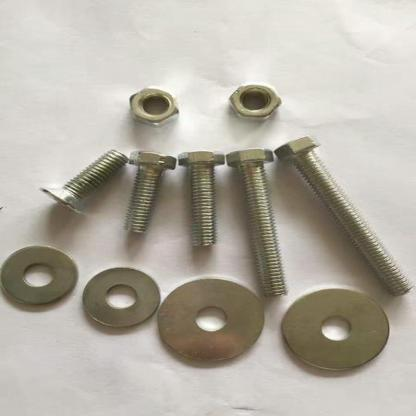FOD: (272, 133, 415, 297), (153, 274, 269, 364), (278, 286, 395, 373), (223, 144, 286, 296), (37, 148, 128, 217), (80, 263, 162, 330), (118, 148, 178, 236), (176, 147, 226, 250), (0, 243, 80, 307), (224, 81, 286, 122), (125, 86, 181, 128)
